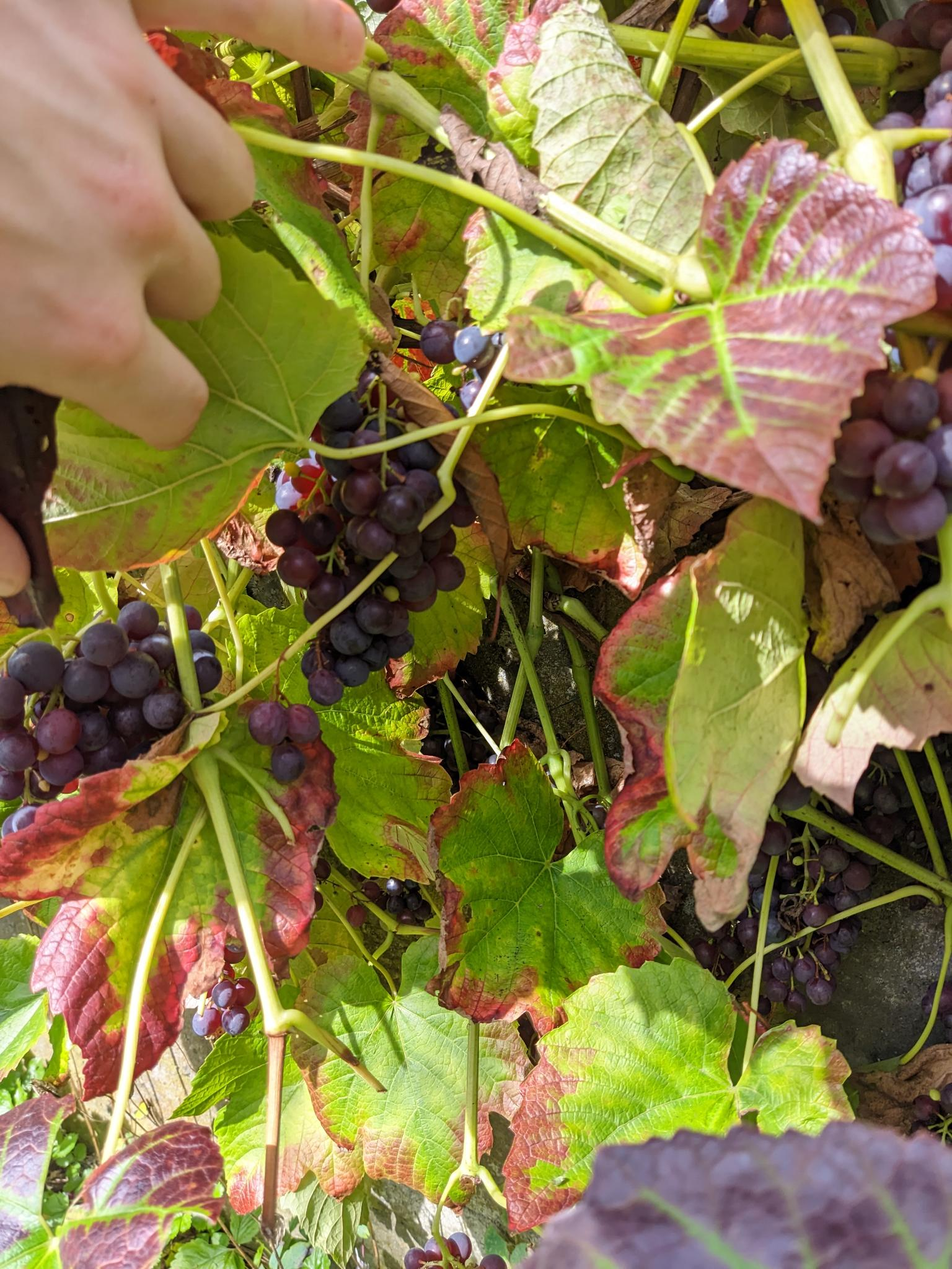Grape Ripe: (249, 285, 494, 784), (693, 745, 952, 1017), (7, 601, 186, 799), (874, 0, 952, 317), (831, 369, 952, 544), (182, 606, 221, 695)
